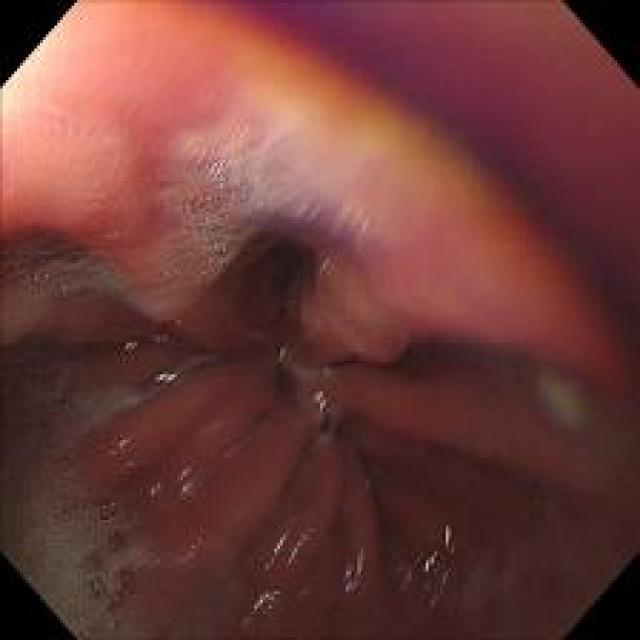blur: (2, 1, 636, 350)
bubbles: (65, 532, 148, 604), (4, 244, 112, 299), (188, 211, 246, 286), (49, 492, 126, 524), (46, 449, 72, 475), (48, 394, 75, 419), (156, 260, 181, 282), (76, 376, 96, 399)
color misalignment: (528, 368, 585, 429), (182, 136, 228, 210), (422, 525, 454, 611), (229, 174, 285, 220), (265, 520, 308, 578), (230, 109, 272, 166), (239, 589, 279, 629), (100, 430, 136, 471), (342, 546, 368, 596), (166, 459, 201, 496), (139, 460, 165, 506), (148, 321, 180, 355), (310, 254, 338, 286), (116, 336, 146, 362), (180, 535, 208, 561), (305, 384, 330, 412), (395, 558, 415, 592), (151, 370, 176, 385), (30, 270, 49, 282)
contrast: (218, 226, 321, 398)
